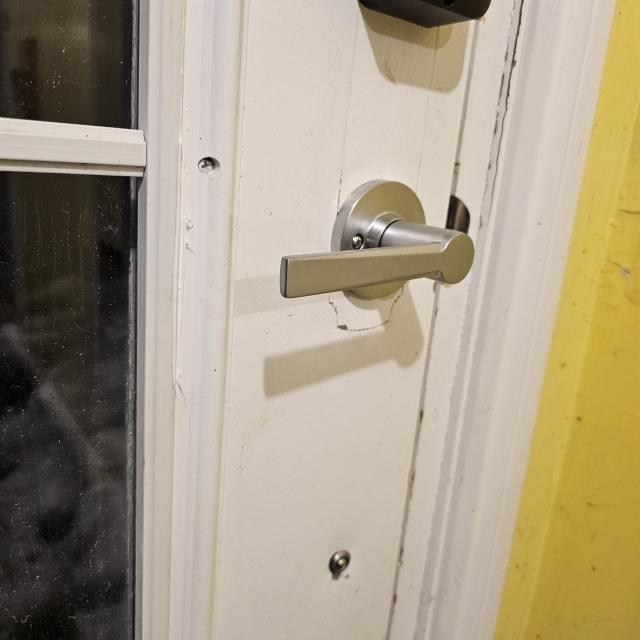door-handle: (280, 180, 474, 299)
